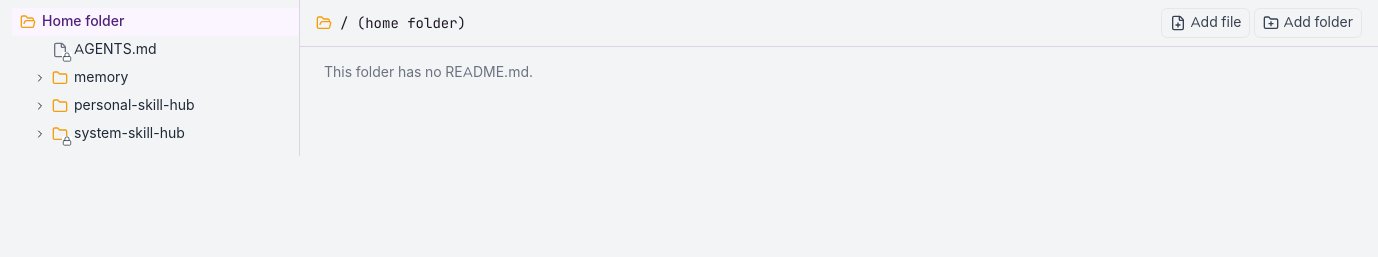
Scenario: HomeFolderBrowser › lists the home folder, locks read-only entries, and shows a folder README
Expected: the 2nd icon with test id "lock-overlay" is shown, [62,136,72,146]
Click the button "memory": (101, 78) [12,64,299,92]
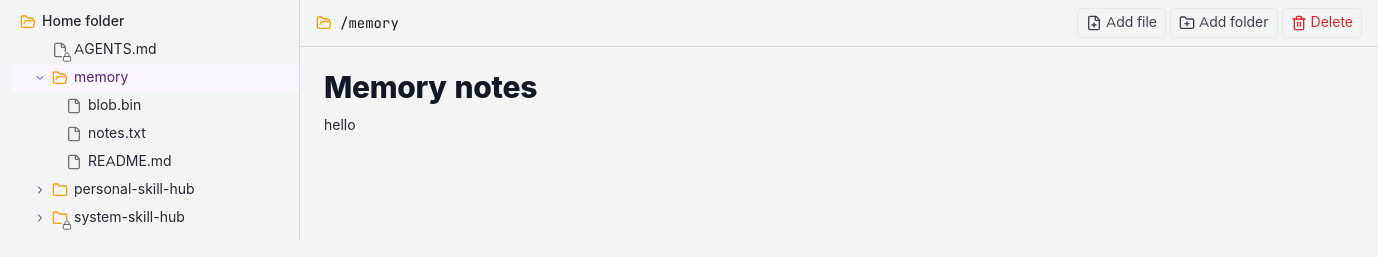
Expected: the heading "Memory notes" is shown, [324,68,537,109]
Expected: the text "notes.txt" is shown, [88,124,146,144]
Expected: the button "Delete" is shown, [1282,8,1362,38]
